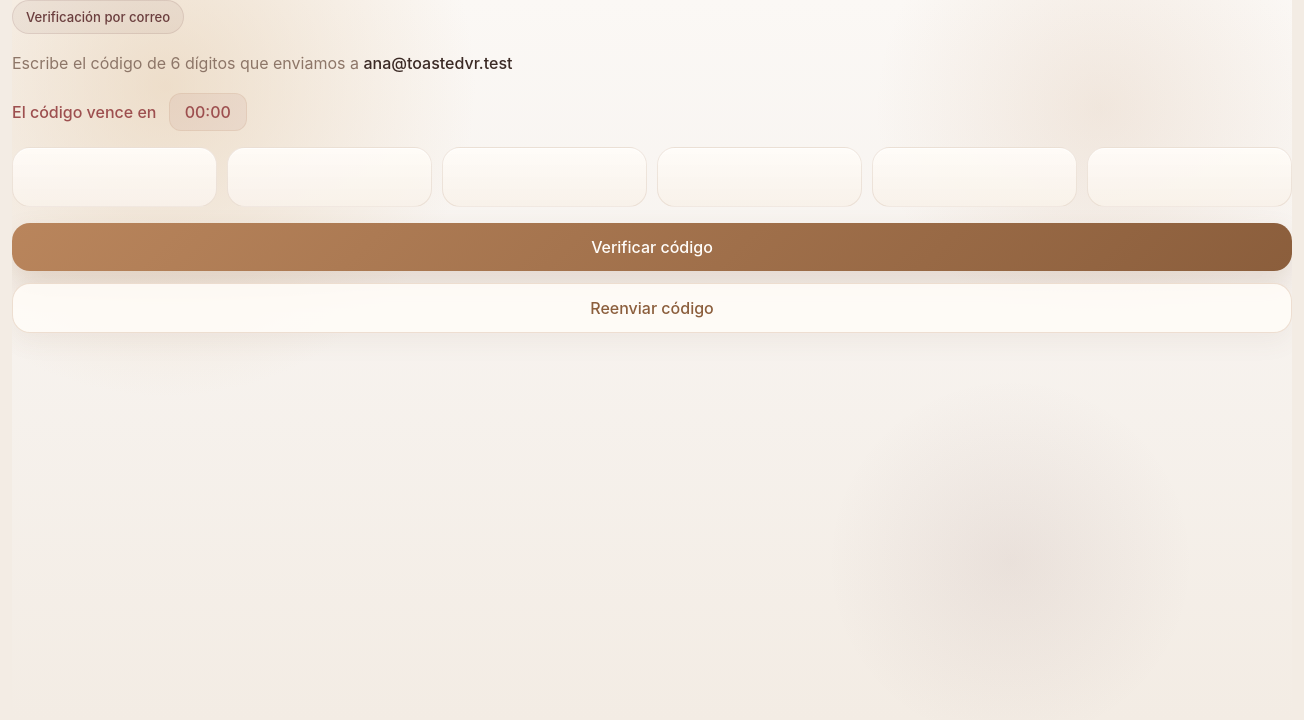
it: VerificationForm › starts at zero with the resend button when opened without a code policy
Expected: the text "00:00" is shown, left=169, top=93, right=247, bottom=131
Click the button "Reenviar código" at (652, 308), box left=12, top=283, right=1292, bottom=333
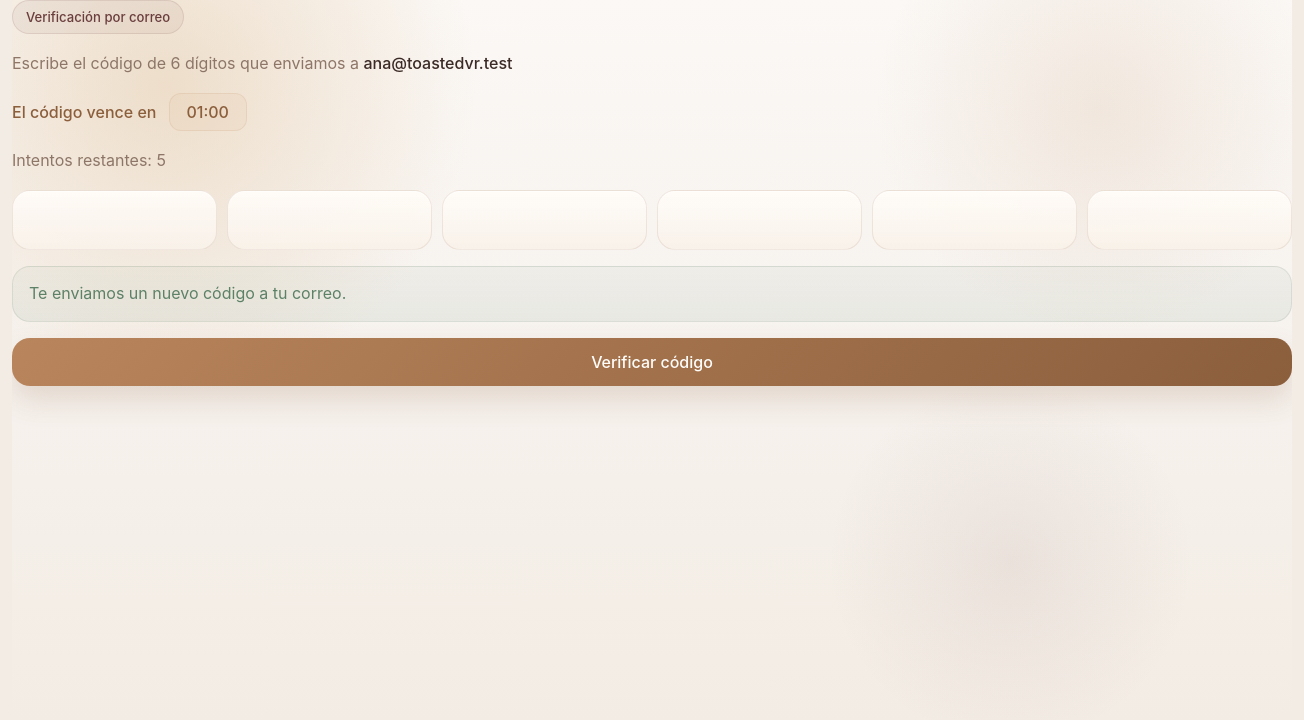
Now the text "Te enviamos un nuevo código a tu correo." is shown, box left=12, top=266, right=1292, bottom=322
Now the text "01:00" is shown, box left=169, top=93, right=247, bottom=131
Now the text with test id "remaining-attempts" reads "Intentos restantes: 5", box left=12, top=150, right=166, bottom=170
